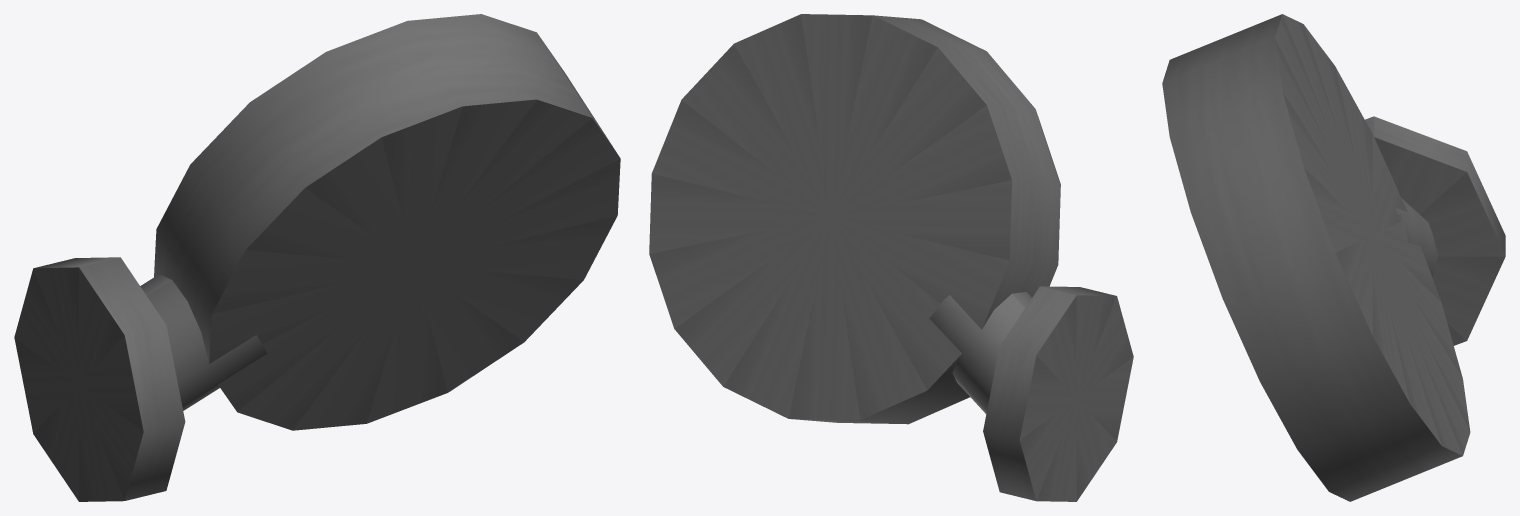
Rendered from mastarmcurve_4x1_c0_west.obj.
3 renders of one model, left to right at view 1: azimuth 30°, elevation 25°; view 2: azimuth 150°, elevation 25°; view 3: azimuth 270°, elevation 25°, orthographic. The views are drawn at different scales.
Parts seen in each view (by area): view 1: mastarm_4x1_c0_west; view 2: mastarm_4x1_c0_west; view 3: mastarm_4x1_c0_west.
Boxes of the visible parts, x1,y1,x2,y2 form: mastarm_4x1_c0_west: [14, 14, 620, 501]; mastarm_4x1_c0_west: [649, 14, 1133, 501]; mastarm_4x1_c0_west: [1162, 14, 1505, 501].
Size of the model in its own units: 0.8617 by 0.7646 by 0.5211.
